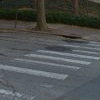crosswalk: (0, 43, 100, 79)
